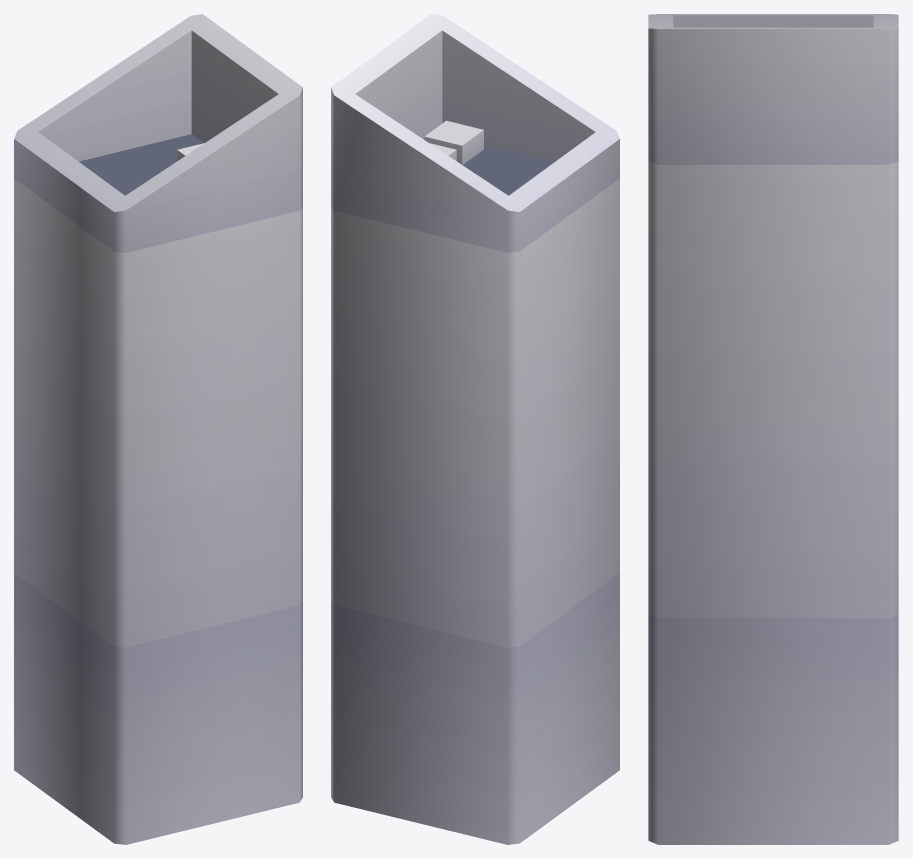
File: low-detail-building-e.glb
3 renders of one model, left to right at view 1: azimuth 30°, elevation 25°; view 2: azimuth 150°, elevation 25°; view 3: azimuth 270°, elevation 25°, orthographic. The views are drawn at different scales.
Visible parts, largest first — view 1: low-detail-building-e; view 2: low-detail-building-e; view 3: low-detail-building-e.
Boxes of the visible parts, x1,y1,x2,y2 form: low-detail-building-e: (14,14,302,844); low-detail-building-e: (331,14,619,844); low-detail-building-e: (648,14,898,844).
Size of the model in its own units: 0.5 by 1.8 by 0.5.
1 material, 1 textured.
